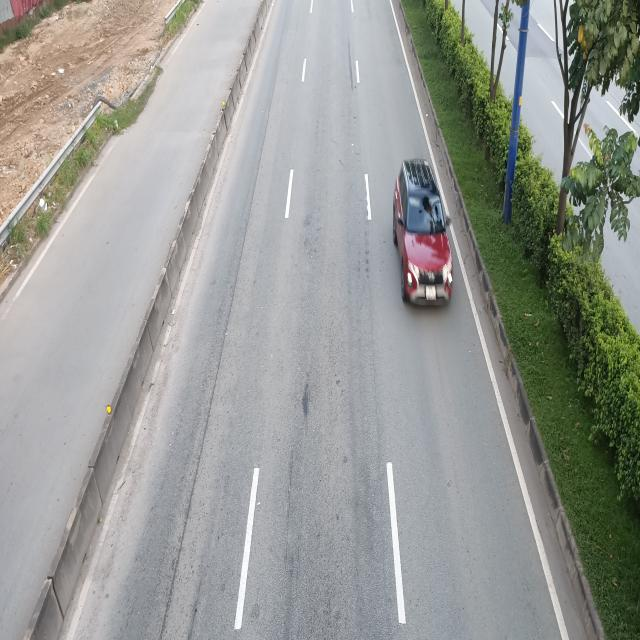car: (393, 157, 452, 310)
